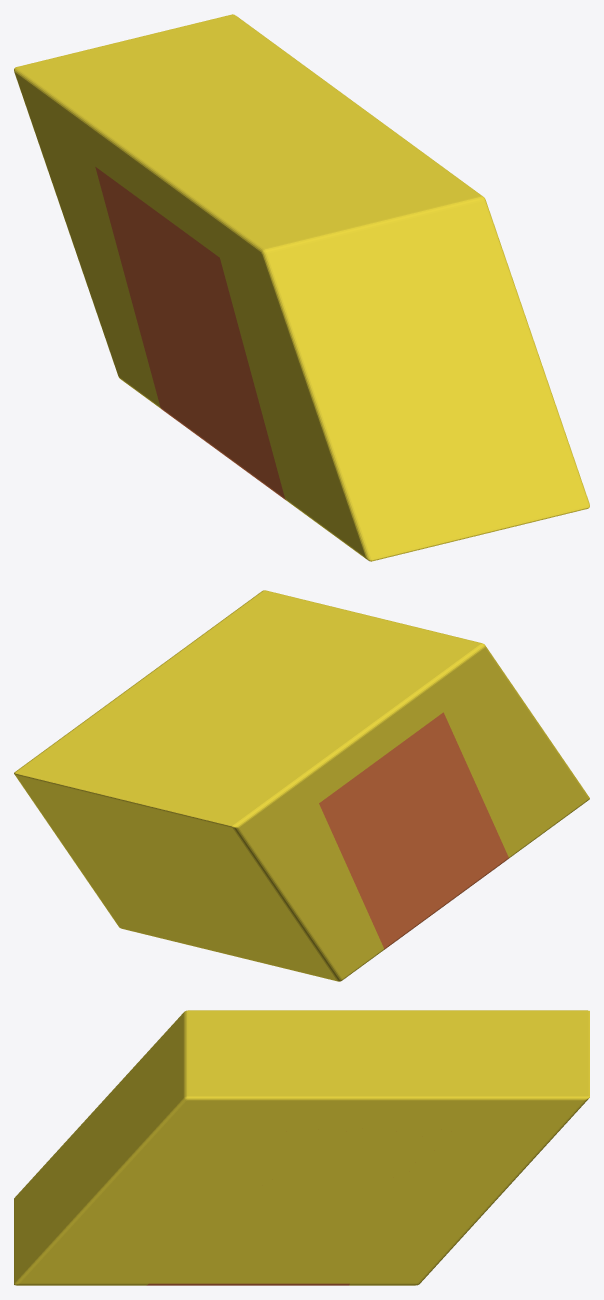
The model's file is RhoAndParl.fbx.
The picture shows the model from 3 angles, top to bottom: view 1: azimuth 30°, elevation 25°; view 2: azimuth 150°, elevation 25°; view 3: azimuth 270°, elevation 25°; orthographic projection. The views are drawn at different scales.
Parts seen in each view (by area): view 1: Cube.008, Cube.006; view 2: Cube.008, Cube.006; view 3: Cube.008, Cube.006.
Boxes of the visible parts, box(x1,y1,x2,y2) form: Cube.008: box(14, 14, 589, 561); Cube.006: box(95, 167, 285, 499); Cube.008: box(14, 590, 589, 981); Cube.006: box(319, 712, 508, 949); Cube.008: box(14, 1010, 589, 1285); Cube.006: box(146, 1283, 349, 1285).
Size of the model in its own units: 200 by 200 by 552.
